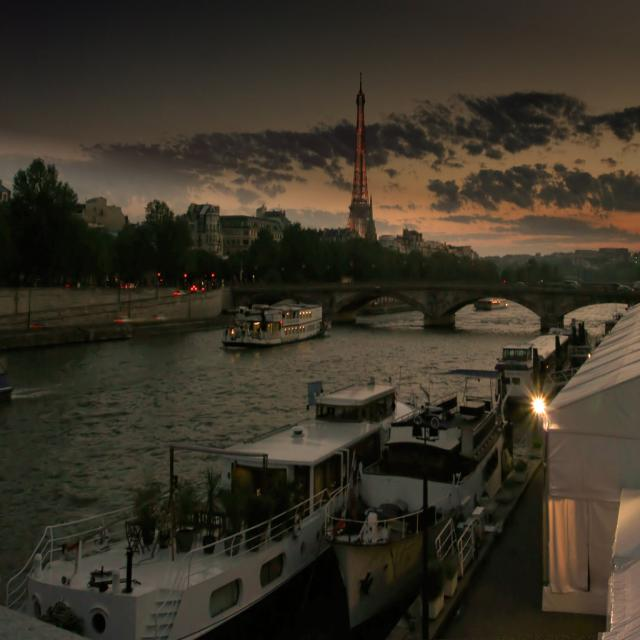Boat: (18, 324, 419, 640), (325, 372, 501, 620), (485, 315, 597, 405), (223, 292, 344, 351)
